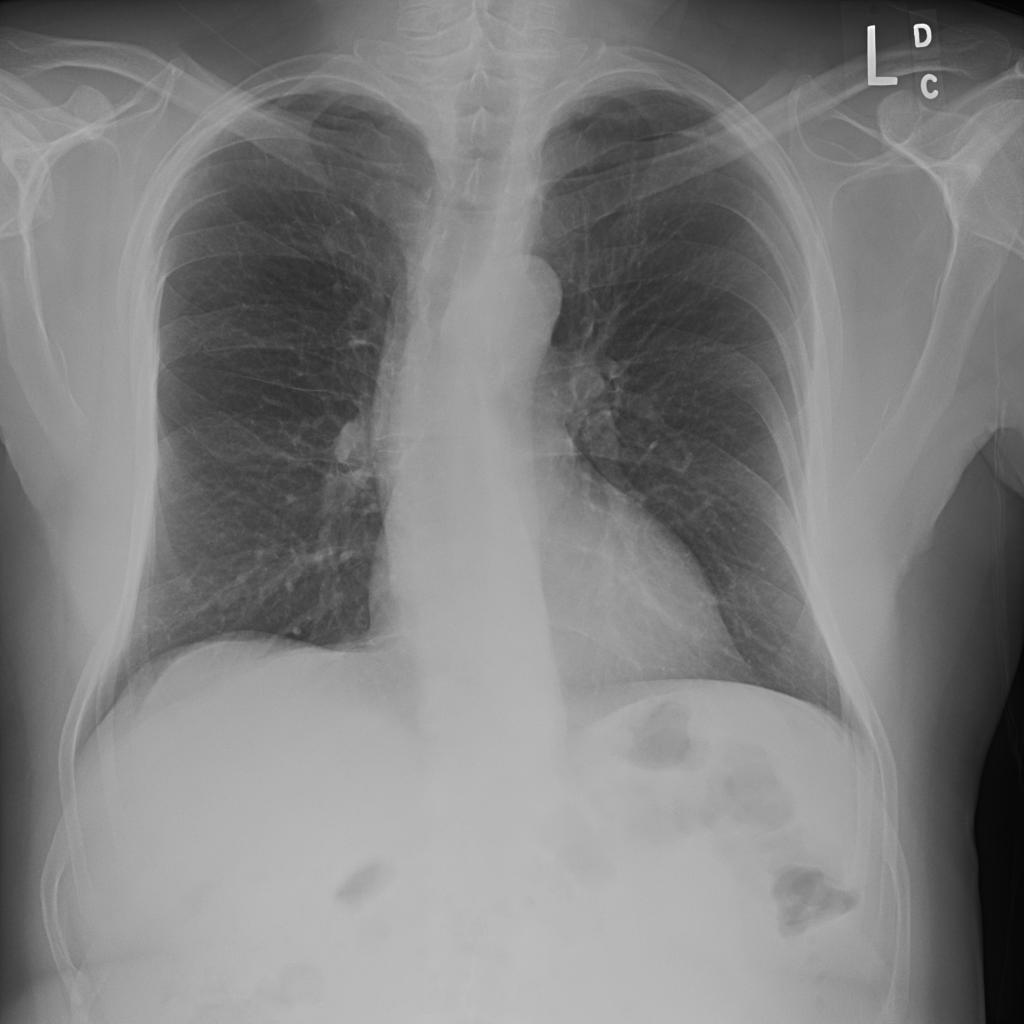Nodule: (81, 284, 110, 310), (83, 236, 107, 260)
